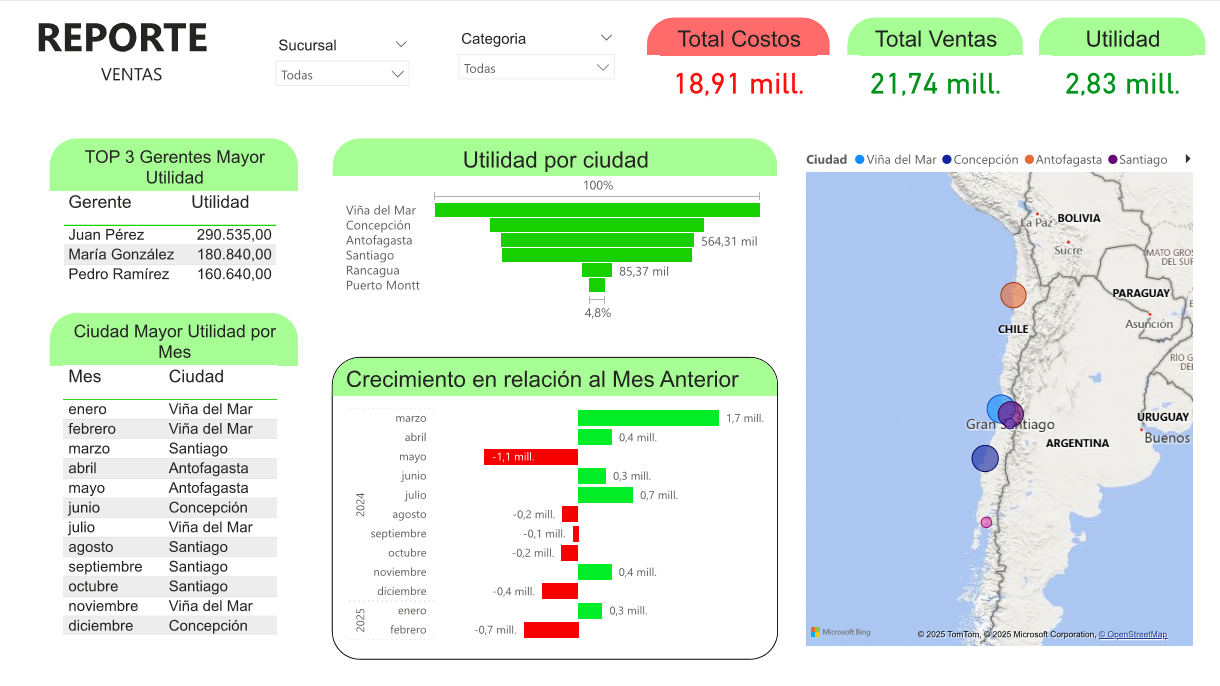

Layout of this report page (visuals, bound fields, positions):
{"tool":"powerbi","page":{"name":"REPORTE","canvas":[1280,720],"ordinal":0},"visuals":[{"type":"textbox","box":[9.6,0,215.4,97.4],"z":0},{"type":"card","title":"Utilidad","fields":{"Values":["costos.Utilidad"]},"box":[1084.1,13.7,179.8,112.5],"z":1000},{"type":"card","title":"Total Costos","fields":{"Values":["costos.Total Costos"]},"box":[665.5,13.7,197.6,112.5],"z":2000},{"type":"card","title":"Total Ventas","fields":{"Values":["costos.Total Ventas"]},"box":[879.6,13.7,189.4,112.5],"z":3000},{"type":"map","title":"Mapa","fields":{"Category":["sucursales.ciudad"],"Size":["costos.Total Ventas"],"Series":["sucursales.ciudad"]},"box":[822,135.8,441.9,564],"z":4000},{"type":"funnel","fields":{"Y":["costos.Utilidad"],"Category":["sucursales.ciudad"]},"box":[330.7,142.7,476.2,209.9],"z":5000},{"type":"tableEx","title":"TOP 3 Gerentes Mayor Utilidad","fields":{"Values":["Top 3 Gerentes Tabla.gerente","Sum(Top 3 Gerentes Tabla.Utilidad)"]},"box":[28.8,142.7,267.6,175.6],"z":6000},{"type":"tableEx","title":"Ciudad Mayor Utilidad por Mes","fields":{"Values":["Calendario.Date.Variación.Jerarquía de fechas.Mes","costos.Ciudad Mayor Utilidad"]},"box":[28.8,329.3,267.6,370.5],"z":7000},{"type":"barChart","title":"Crecimiento en relación al  Mes Anterior","fields":{"Category":["Calendario.Date.Variación.Jerarquía de fechas.Año","Calendario.Date.Variación.Jerarquía de fechas.Mes"],"Y":["costos.Crecimiento Mes Anterior"]},"box":[330.7,377.4,476.2,322.5],"z":8000},{"type":"slicer","fields":{"Values":["sucursales.nombre_sucursal"]},"box":[251.1,20.6,182.5,98.8],"z":9000},{"type":"slicer","fields":{"Values":["productos.categoria"]},"box":[446,13.7,207.2,112.5],"z":10000}]}

Visuals, with their boxes in screenshot pixels (x1, y1, x2, y2), scaled from the page's 1280x720 canvas onto the 1220x686 screenshot:
textbox: (x1=9, y1=0, x2=214, y2=93)
"Utilidad" card: (x1=1033, y1=13, x2=1205, y2=120)
"Total Costos" card: (x1=634, y1=13, x2=823, y2=120)
"Total Ventas" card: (x1=838, y1=13, x2=1019, y2=120)
"Mapa" map: (x1=783, y1=129, x2=1205, y2=667)
funnel - costos.Utilidad x sucursales.ciudad: (x1=315, y1=136, x2=769, y2=336)
"TOP 3 Gerentes Mayor Utilidad" tableEx: (x1=27, y1=136, x2=283, y2=303)
"Ciudad Mayor Utilidad por Mes" tableEx: (x1=27, y1=314, x2=283, y2=667)
"Crecimiento en relación al  Mes Anterior" barChart: (x1=315, y1=360, x2=769, y2=667)
slicer - sucursales.nombre_sucursal: (x1=239, y1=20, x2=413, y2=114)
slicer - productos.categoria: (x1=425, y1=13, x2=623, y2=120)
